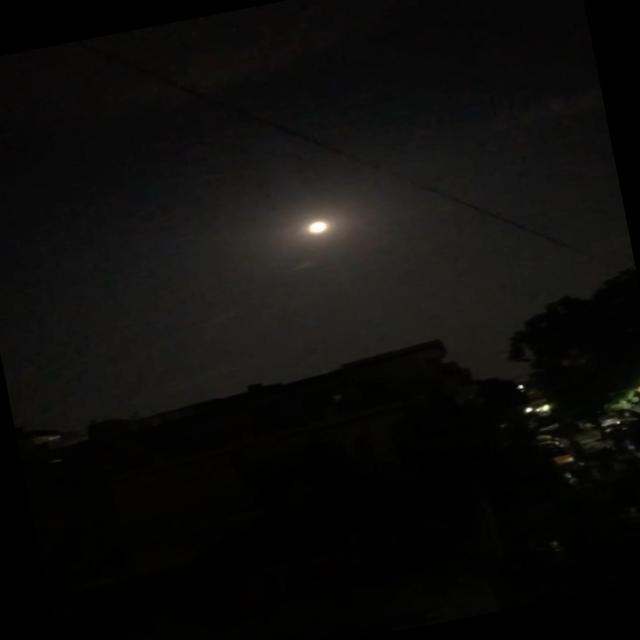on: (250, 173, 384, 286)
